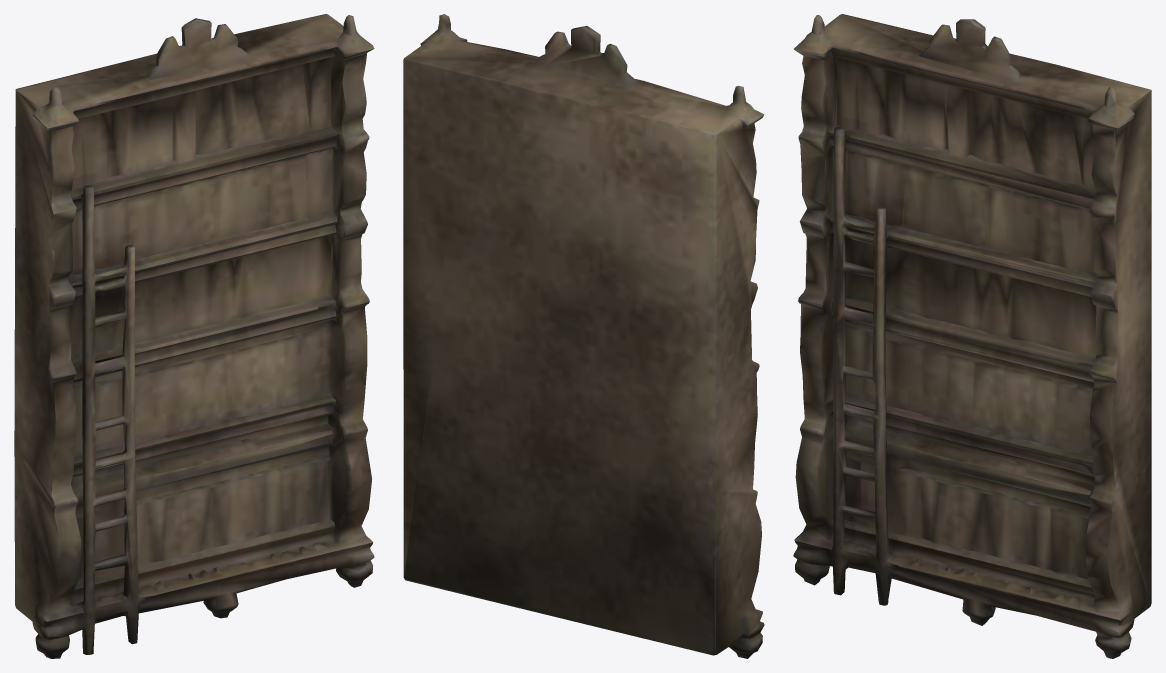
Rendered from ornate-wood-bookcase-v001.glb.
3 renders of one model, left to right at view 1: azimuth 30°, elevation 25°; view 2: azimuth 150°, elevation 25°; view 3: azimuth 330°, elevation 25°, orthographic.
Parts seen in each view (by area): view 1: ornate-wood-bookcase; view 2: ornate-wood-bookcase; view 3: ornate-wood-bookcase.
Boxes of the visible parts, x1=… form: ornate-wood-bookcase: x1=14, y1=14, x2=374, y2=658; ornate-wood-bookcase: x1=403, y1=14, x2=764, y2=658; ornate-wood-bookcase: x1=793, y1=14, x2=1151, y2=658.
Bounding box in the file's own units: 1.09 × 1.86 × 0.2641.
1 material, 1 textured.
